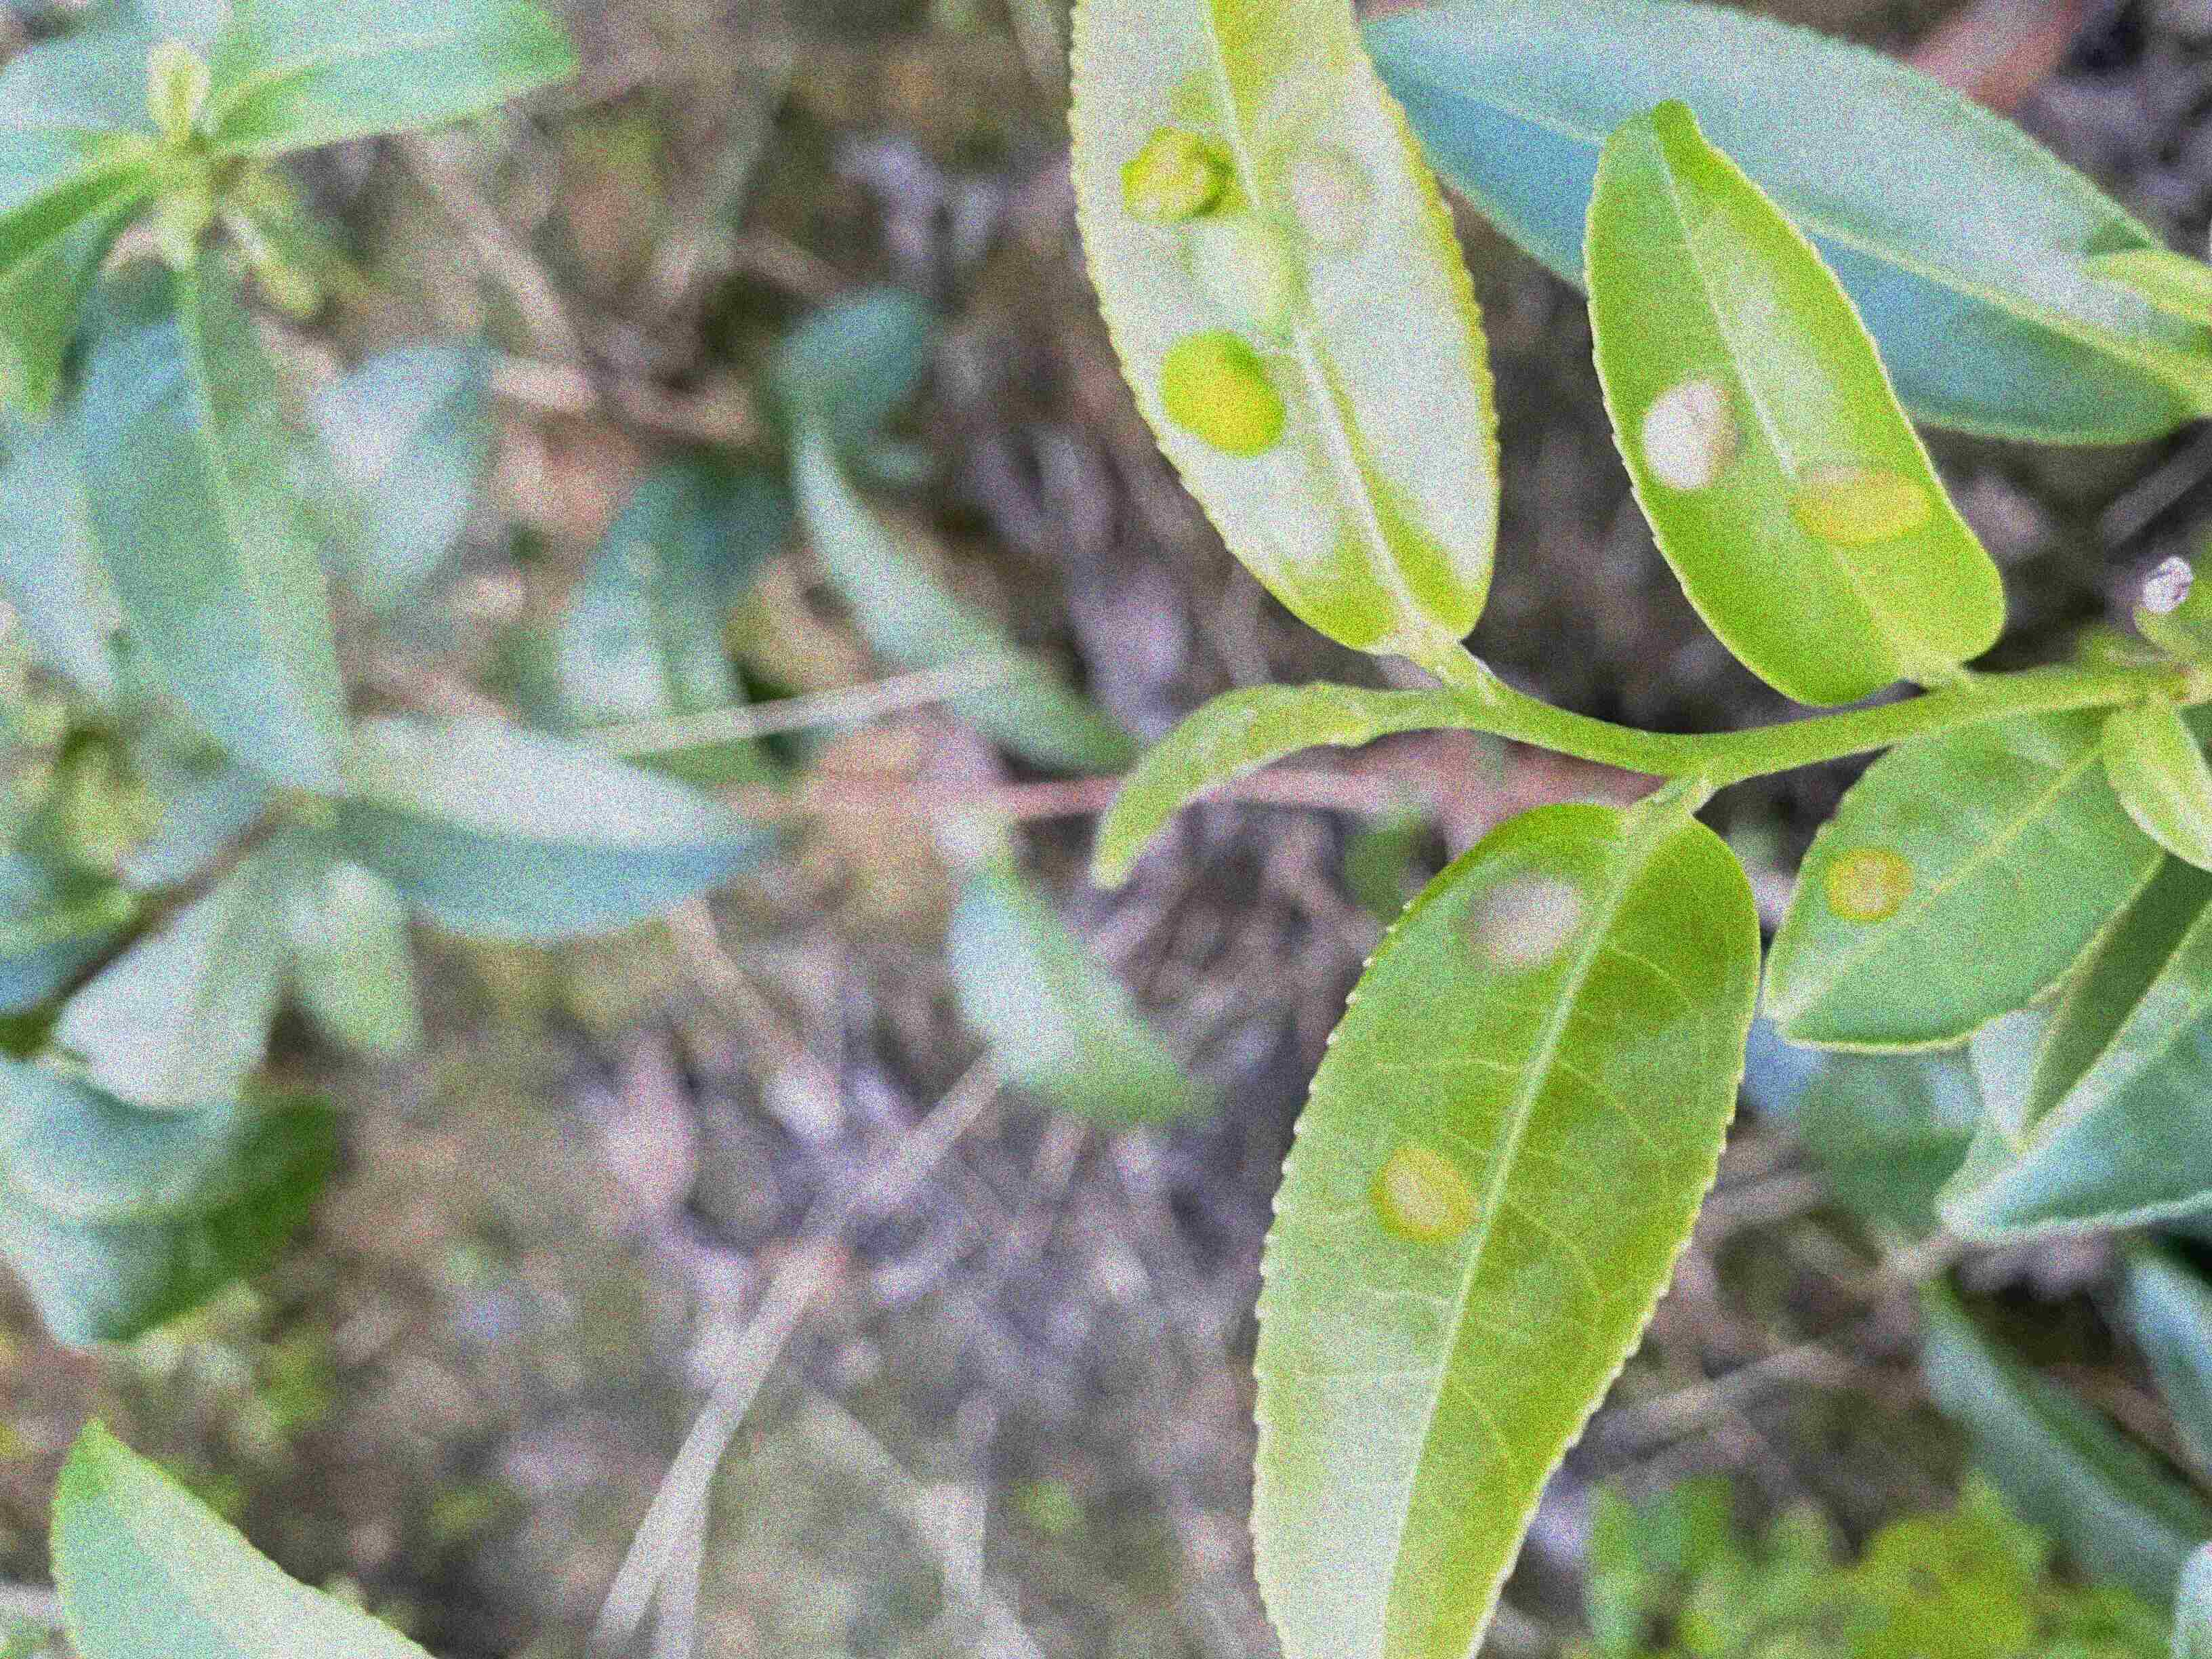chabing_high: (1247, 800, 1763, 1659), (1062, 3, 1503, 659), (1581, 98, 2006, 704)
chabing_low: (1764, 708, 2161, 1054)
